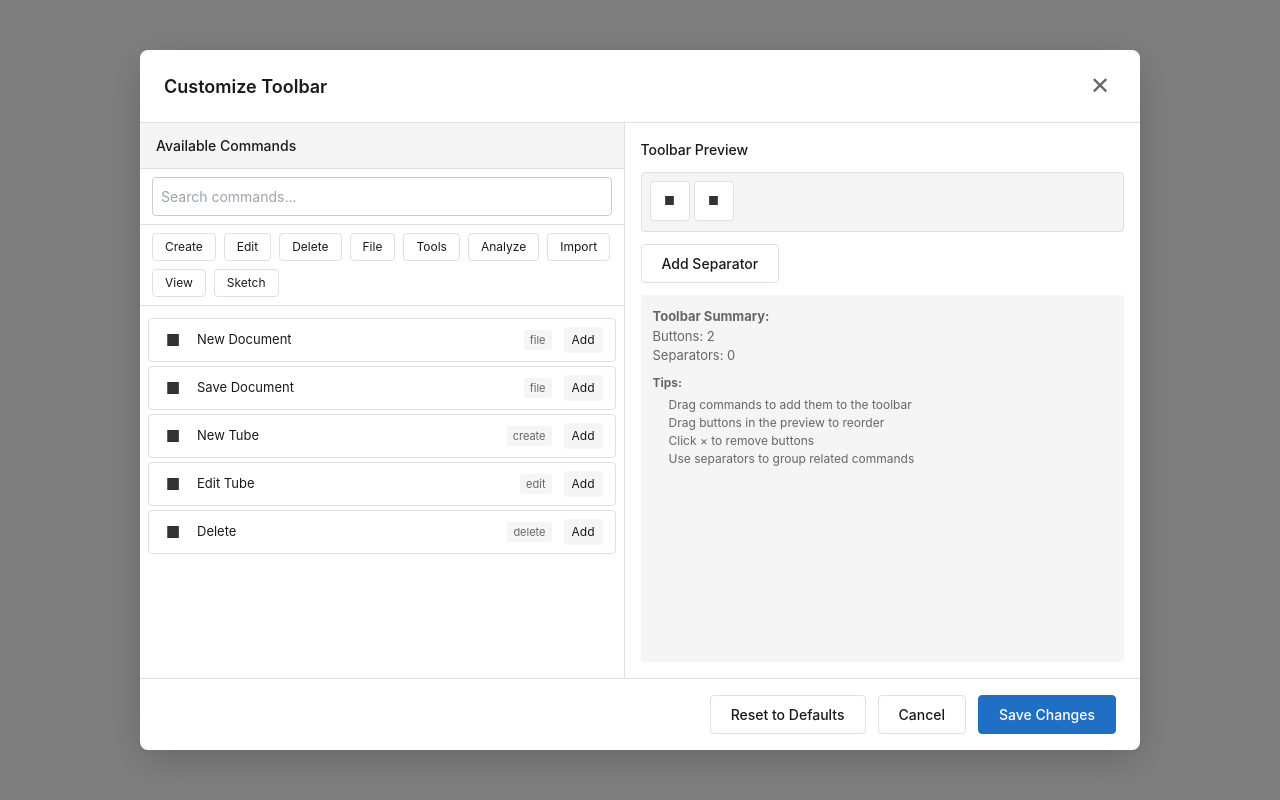
Test: ToolbarCustomizationDialog › Search Functionality › should filter commands by search query
Type "tube" into the field with placeholder "Search commands..." at (382, 196), box [152,177,612,216]
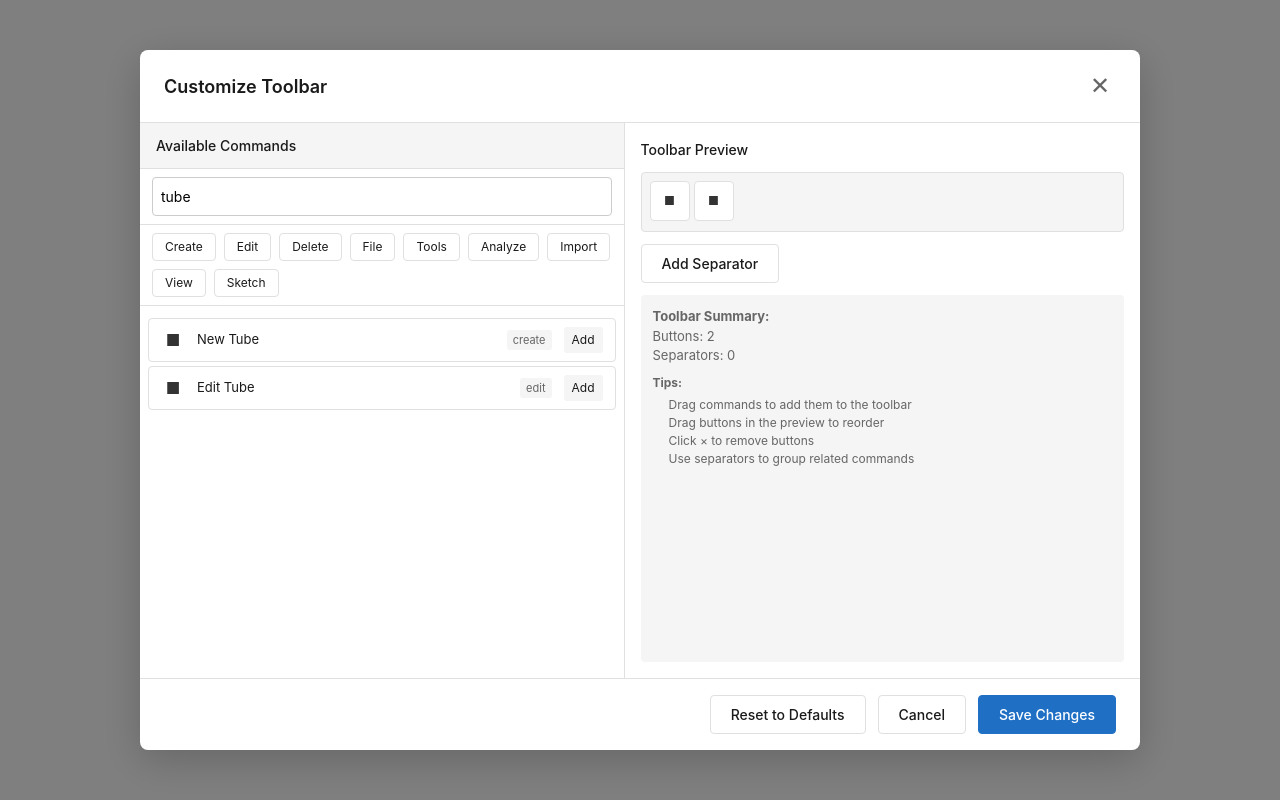
Check: the text "New Tube" is shown, box [197,331,259,347]
Check: the text "Save Document" is gone
